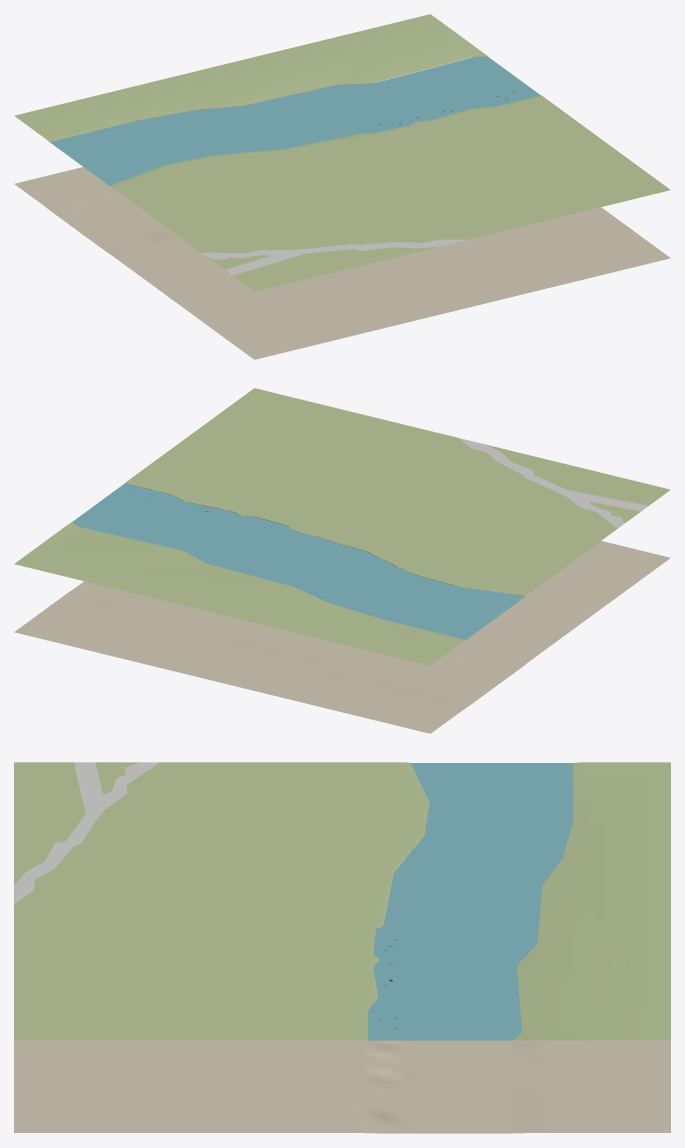
The picture shows the model from 3 angles, top to bottom: view 1: azimuth 30°, elevation 25°; view 2: azimuth 150°, elevation 25°; view 3: azimuth 270°, elevation 25°; orthographic projection. The views are drawn at different scales.
Visible parts, largest first — view 1: s_-11_-7__grass, s_-11_-7__soil, s_-11_-7__water, s_-11_-7__stone_paving; view 2: s_-11_-7__grass, s_-11_-7__soil, s_-11_-7__water, s_-11_-7__stone_paving; view 3: s_-11_-7__grass, s_-11_-7__soil, s_-11_-7__water, s_-11_-7__stone_paving.
Boxes of the visible parts, x1,y1,x2,y2 form: s_-11_-7__grass: (14, 14, 670, 291); s_-11_-7__soil: (14, 167, 670, 359); s_-11_-7__water: (50, 57, 540, 185); s_-11_-7__stone_paving: (202, 239, 466, 275); s_-11_-7__grass: (14, 388, 670, 665); s_-11_-7__soil: (14, 541, 670, 733); s_-11_-7__water: (72, 483, 525, 639); s_-11_-7__stone_paving: (458, 438, 648, 527); s_-11_-7__grass: (14, 762, 670, 1040); s_-11_-7__soil: (14, 1040, 670, 1133); s_-11_-7__water: (368, 763, 573, 1040); s_-11_-7__stone_paving: (14, 762, 157, 904).
Bounding box in the file's own units: 128 × 20.22 × 128.
